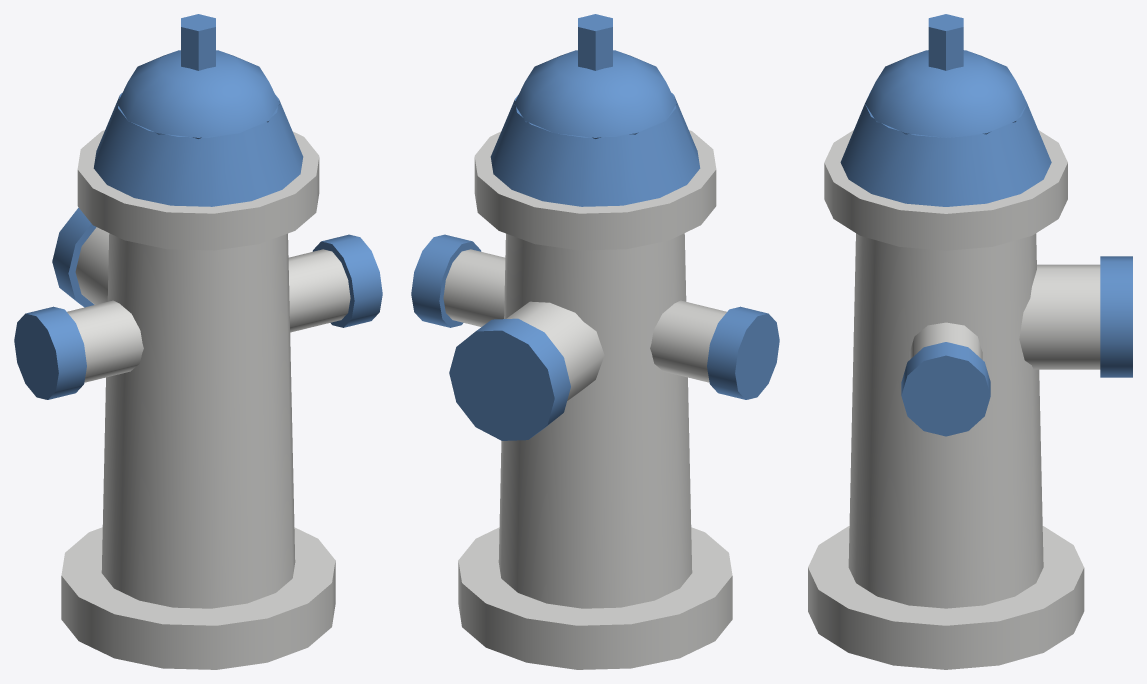
The model's file is fire_hydrant.glb.
3 views of the same model, side by side, from view 1: azimuth 30°, elevation 25°; view 2: azimuth 150°, elevation 25°; view 3: azimuth 270°, elevation 25° (orthographic).
Parts seen in each view (by area): view 1: Body, Caps; view 2: Body, Caps; view 3: Body, Caps.
Boxes of the visible parts, x1,y1,x2,y2 form: Body: (61,130,350,669); Caps: (14,14,382,399); Body: (443,130,732,669); Caps: (411,14,779,440); Body: (808,130,1100,669); Caps: (840,14,1132,436).
Size of the model in its own units: 0.46 by 0.8 by 0.4.
